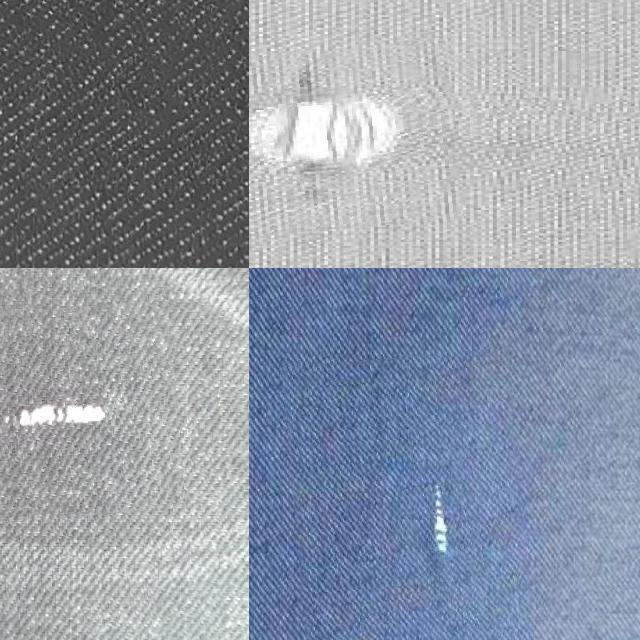Thread_other: (287, 352, 528, 640), (0, 305, 180, 525)
seam: (249, 43, 459, 235)
